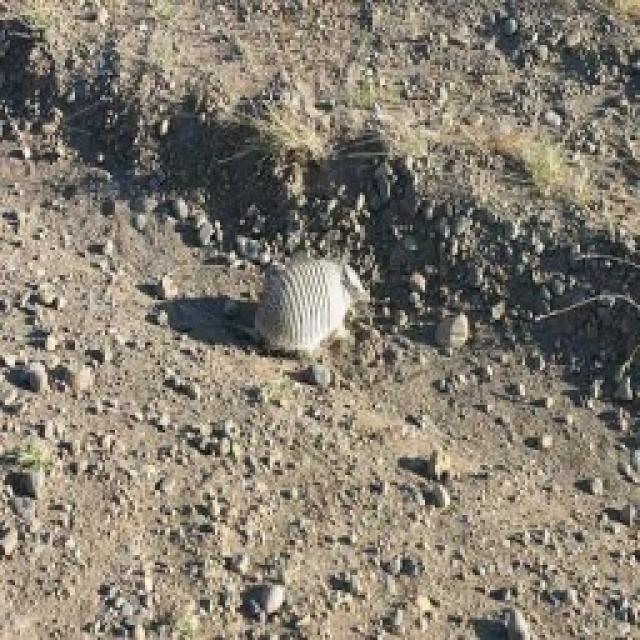not_pig: (248, 245, 370, 365)
